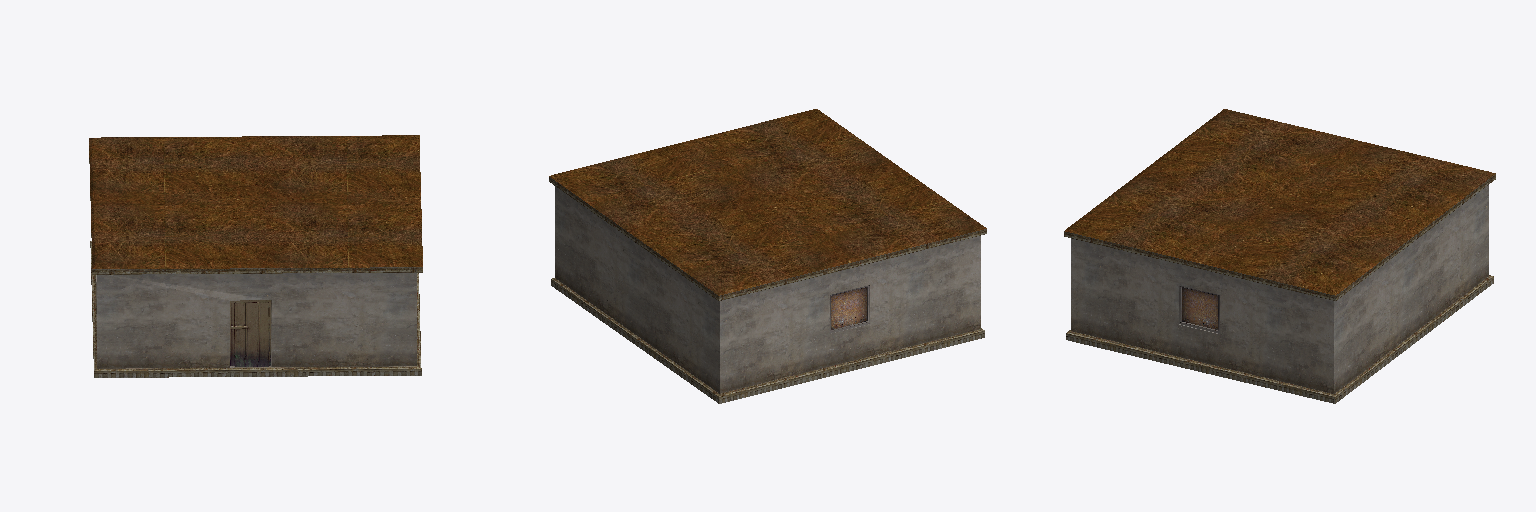
The picture shows the model from 3 angles: view 1: azimuth 30°, elevation 25°; view 2: azimuth 150°, elevation 25°; view 3: azimuth 270°, elevation 25°; orthographic projection.
Size of the model in its own units: 183 by 50.72 by 179.
Materials: 4 (4 with a texture image).